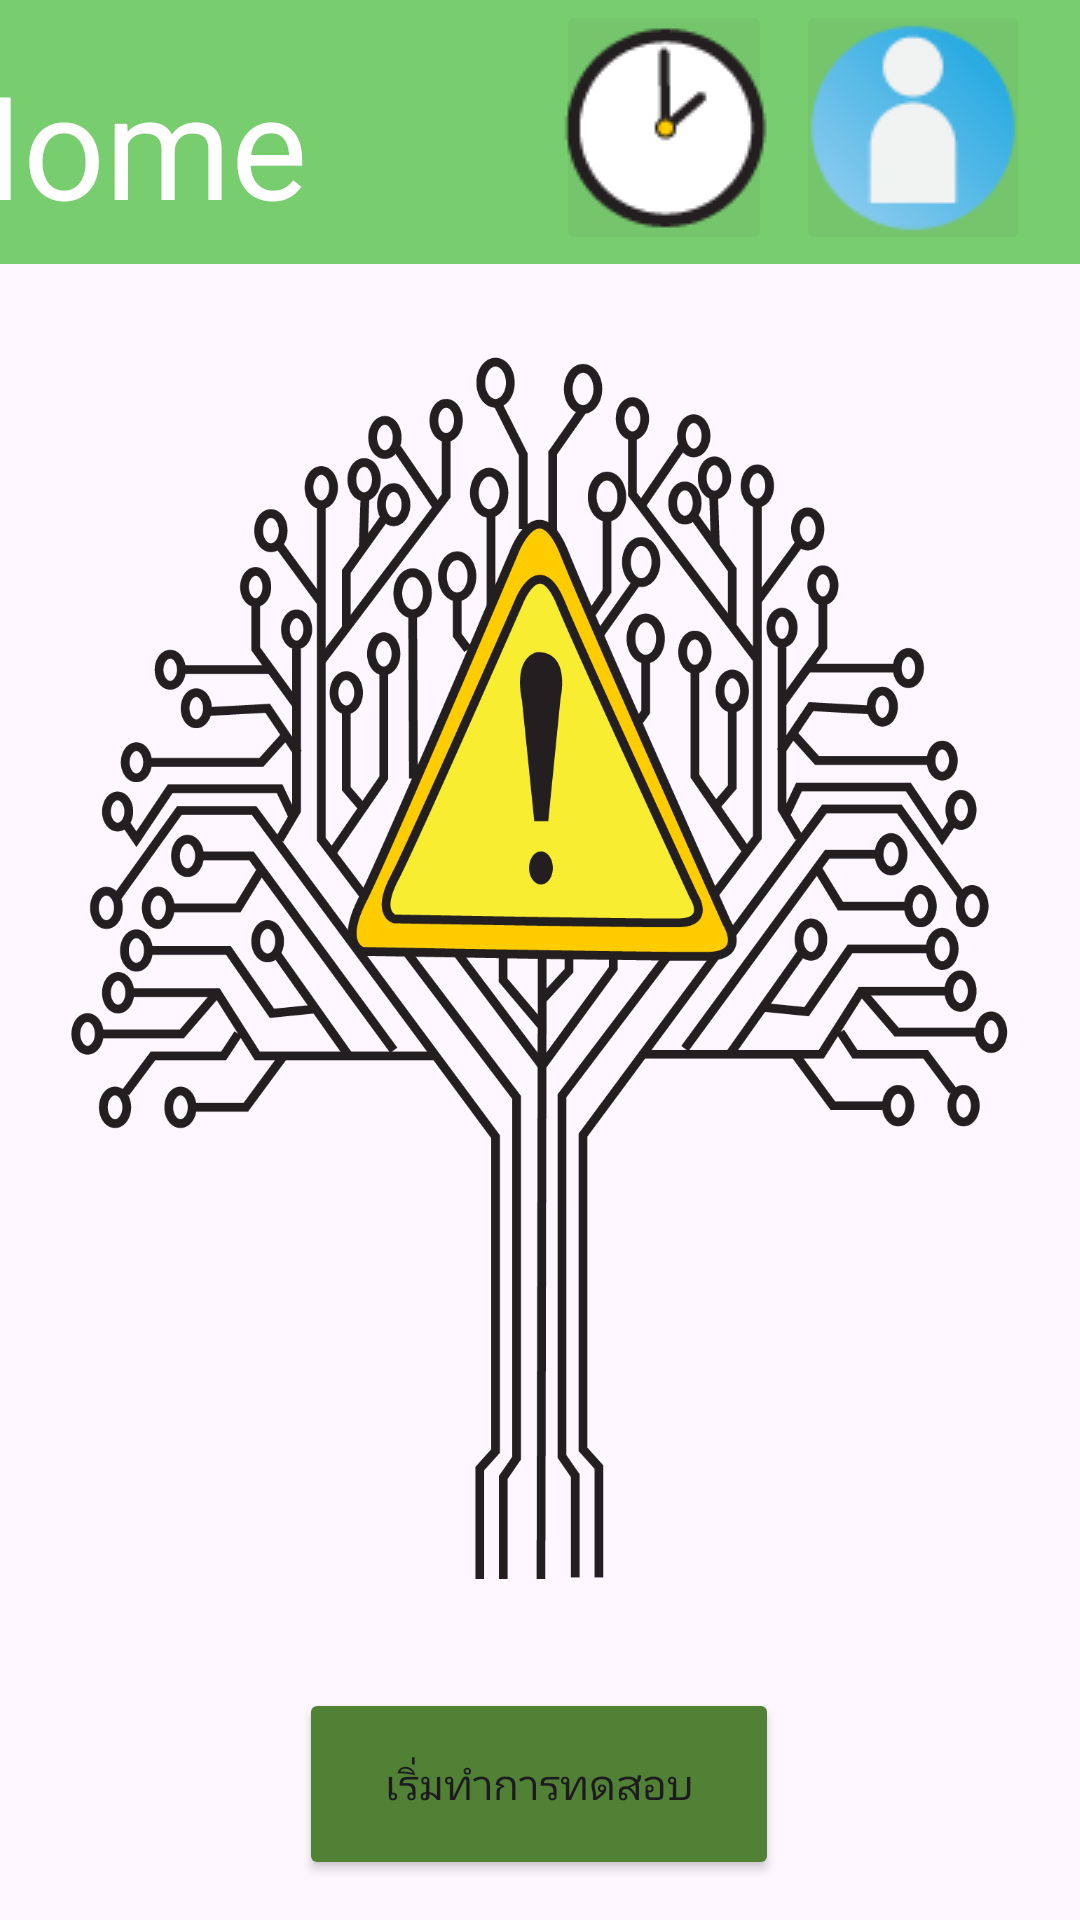

Screen size 1080px×1920px. Icon name, then its center in pixels as (x,y):
historybuttonicon: (666,128)
user: (913,128)
